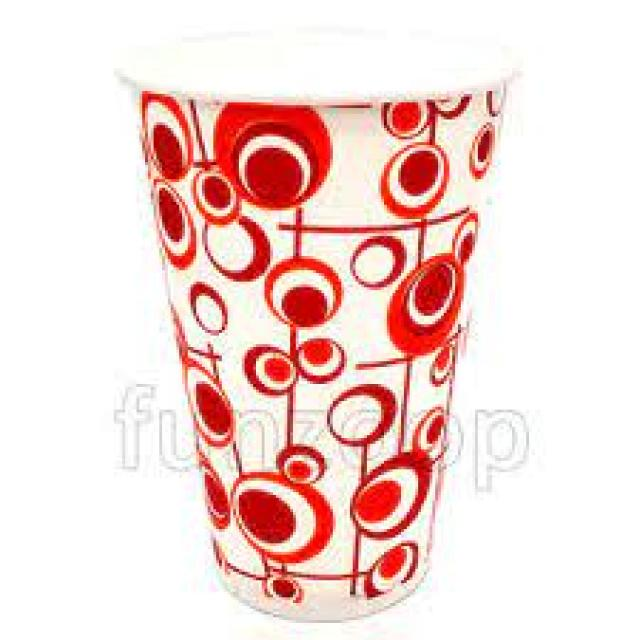PaperCardboard: (113, 25, 521, 619)
